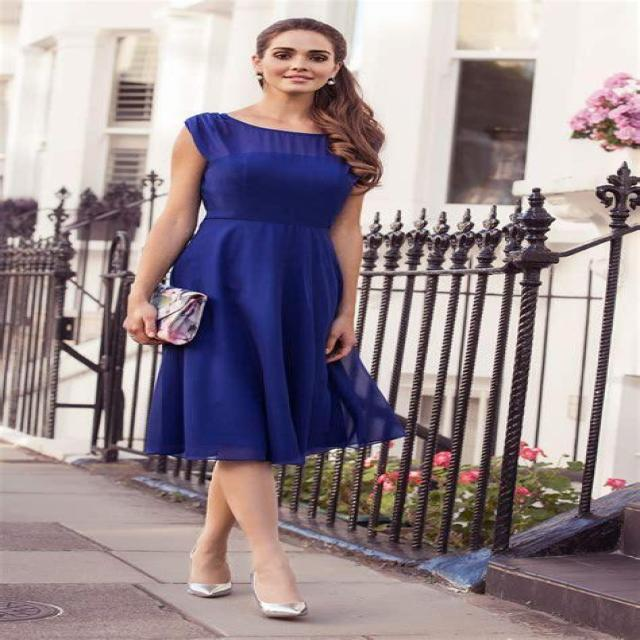dress: (146, 113, 408, 466)
